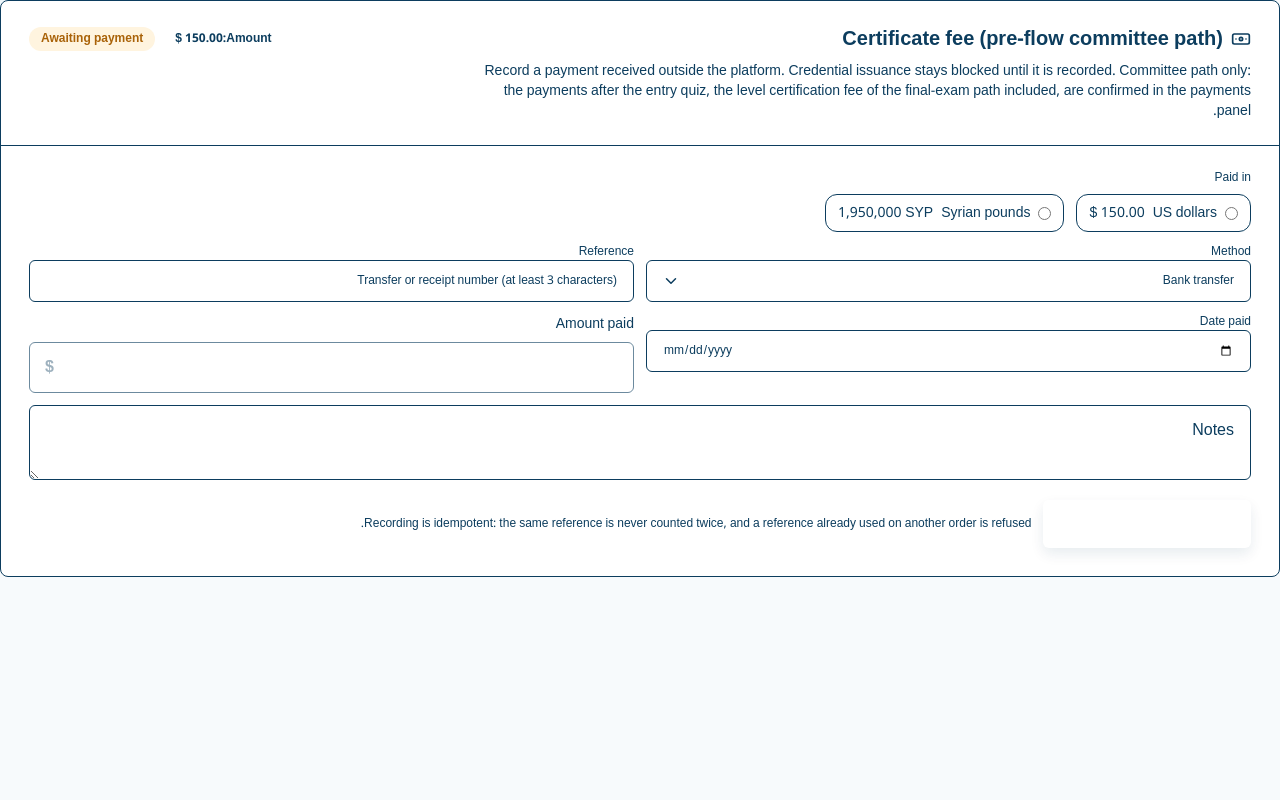
Test case: the committee-path fee › reads the case again when the server refuses the amount (422 amount_mismatch)
Click the radio button labelled "US dollars $ 150.00".
click(1232, 213)  # box 1225,206 -> 1238,220
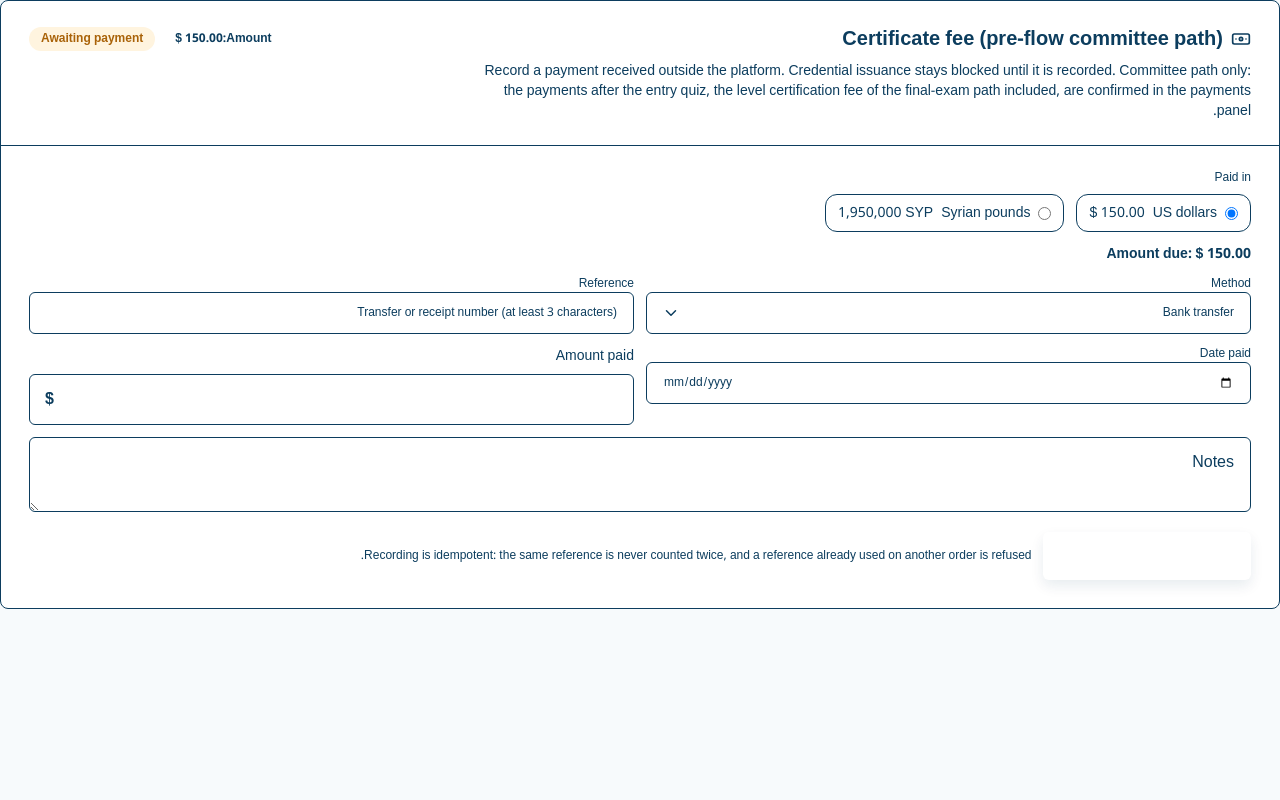
Type "TRX-1" into the field with placeholder "Transfer or receipt number (at least 3 characters)".
click(332, 313); type("TRX-1")  # box 29,292 -> 634,334
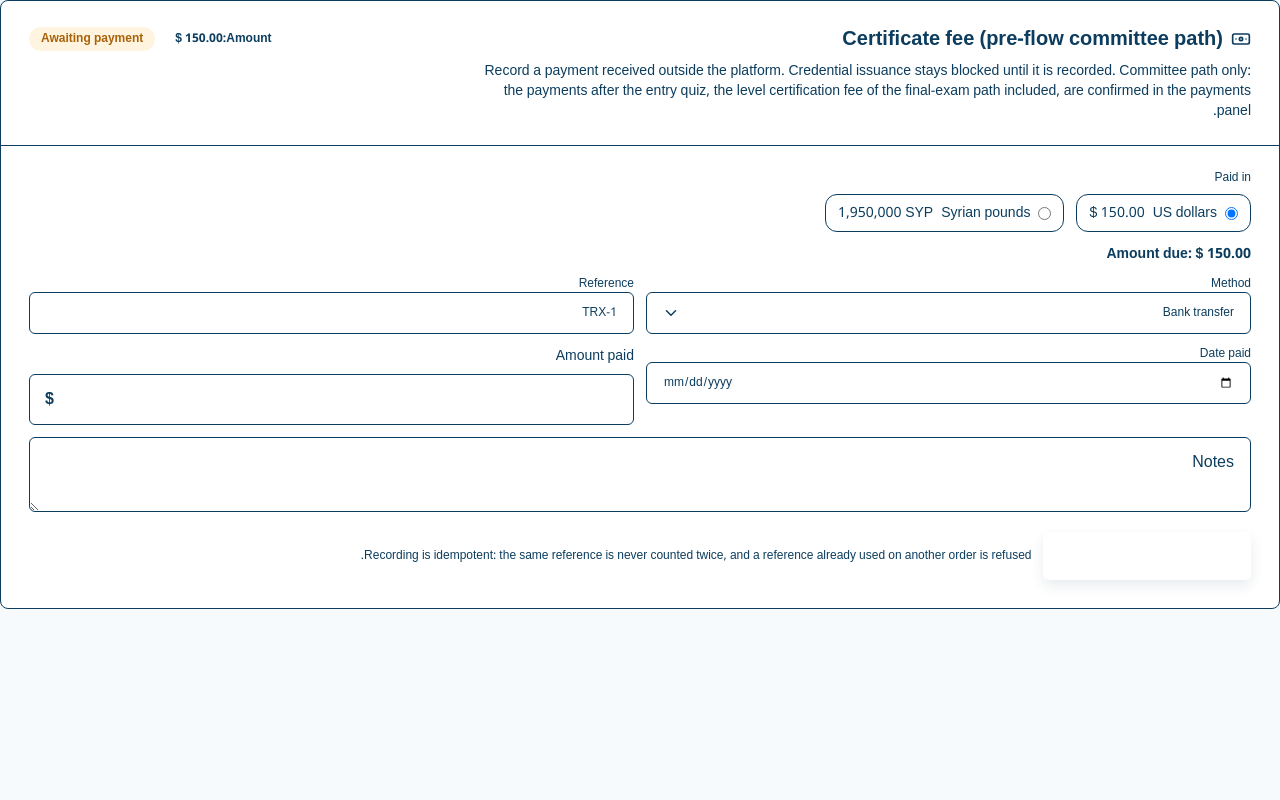
Type "150" into the field labelled "Amount paid".
click(332, 399); type("150")  # box 29,374 -> 634,425
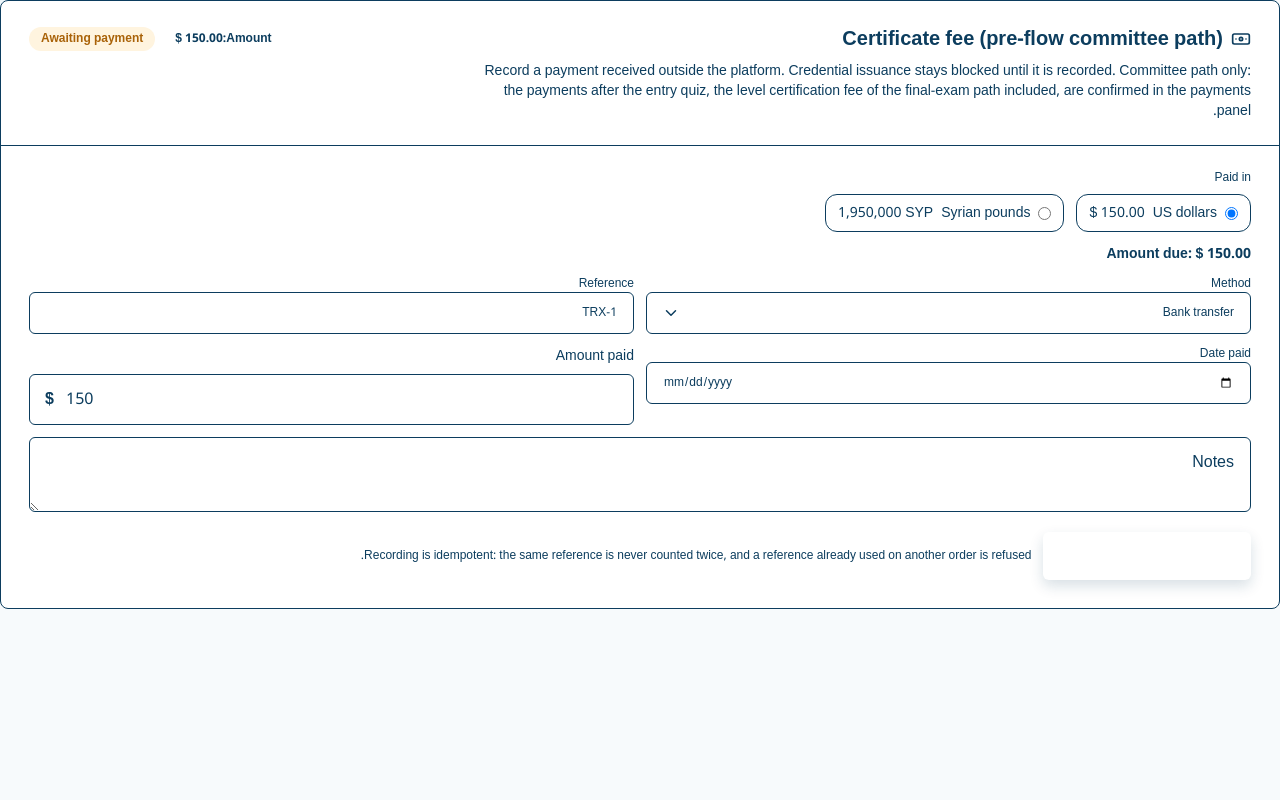
Click the button "Record the payment".
click(1147, 556)  # box 1044,532 -> 1251,580
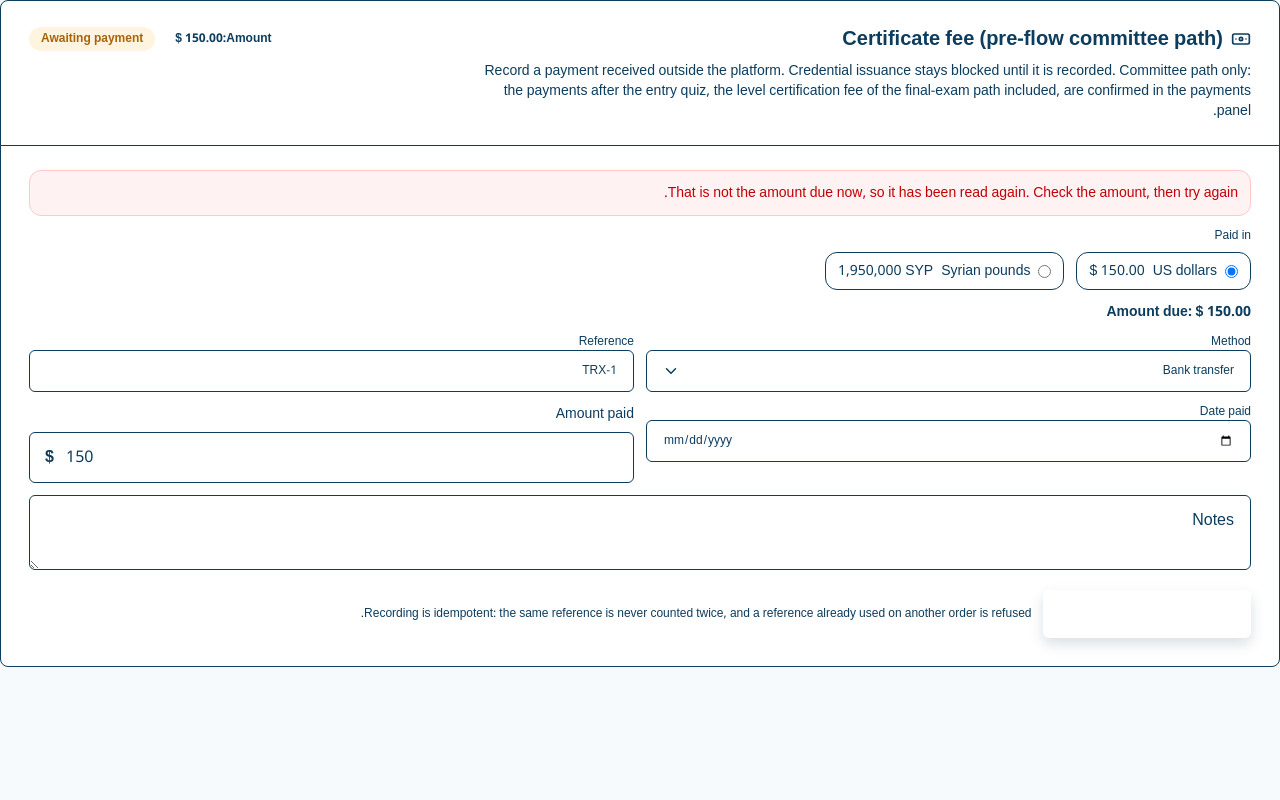
Expected: the message shows "That is not the amount due now", 664,178 -> 1238,207
